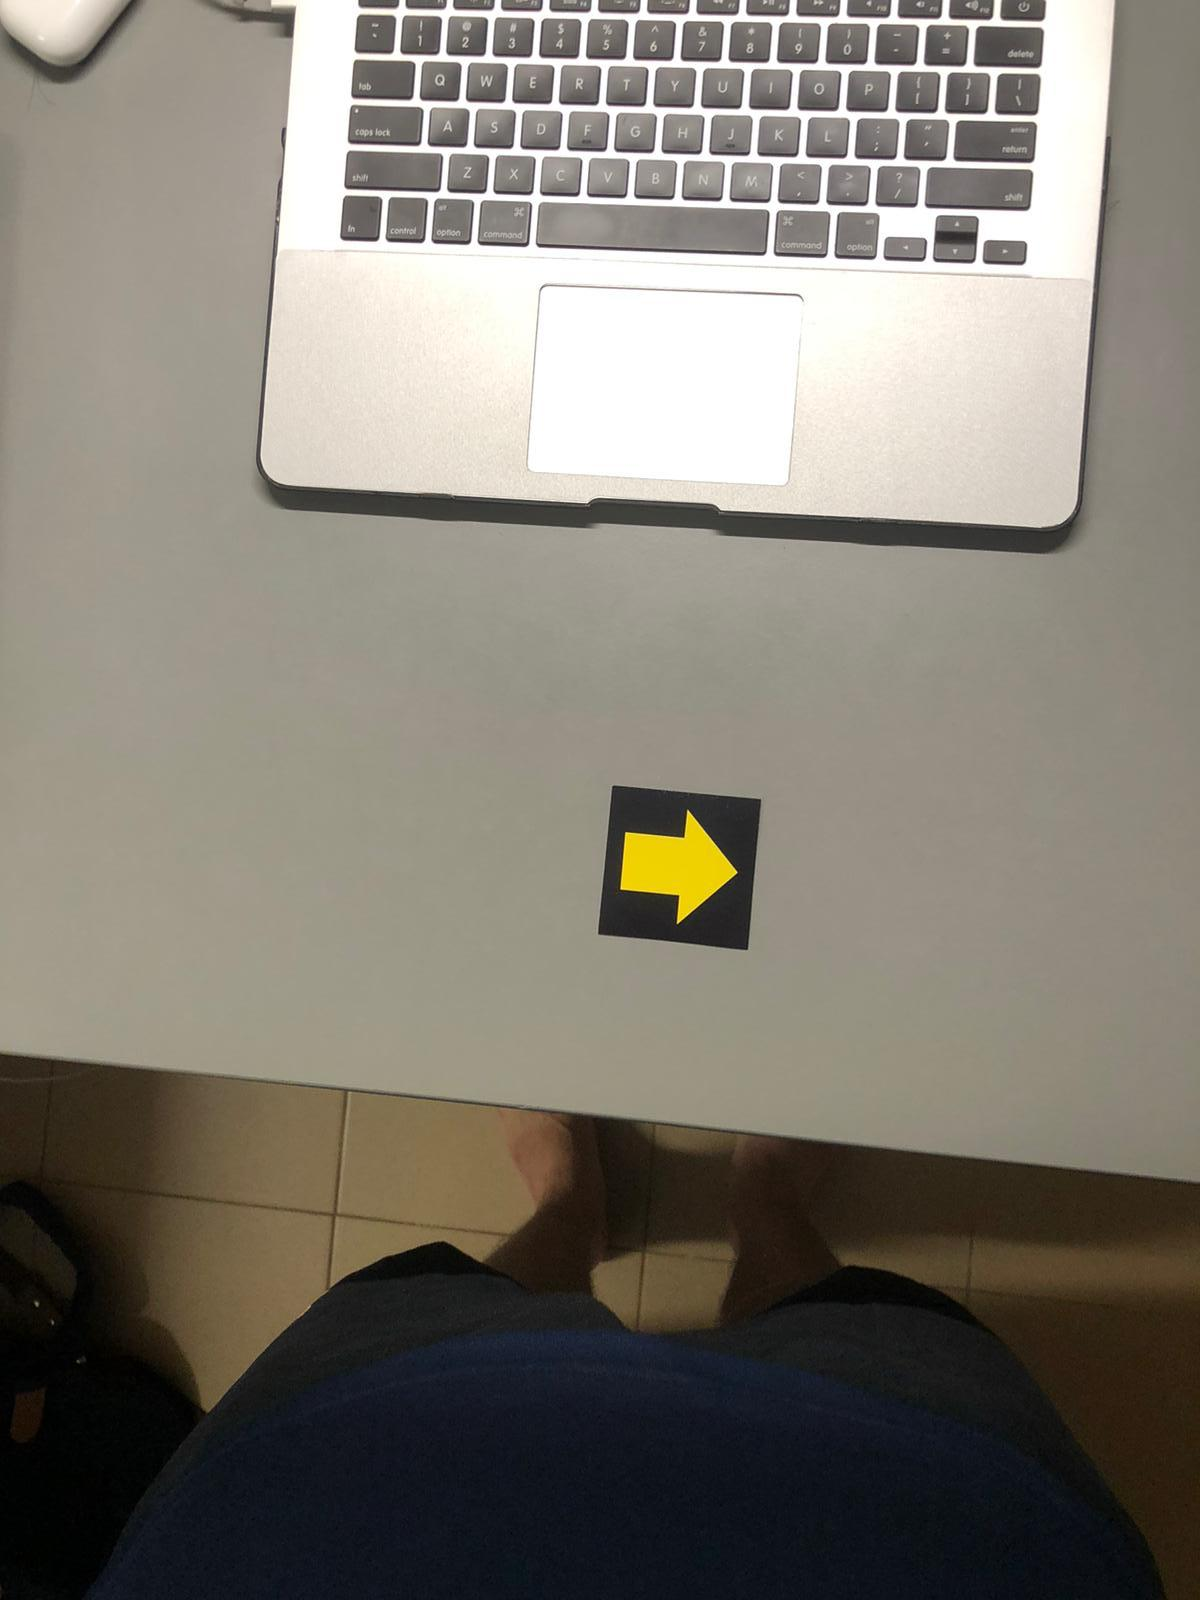Right Arrow: (611, 791, 753, 940)
